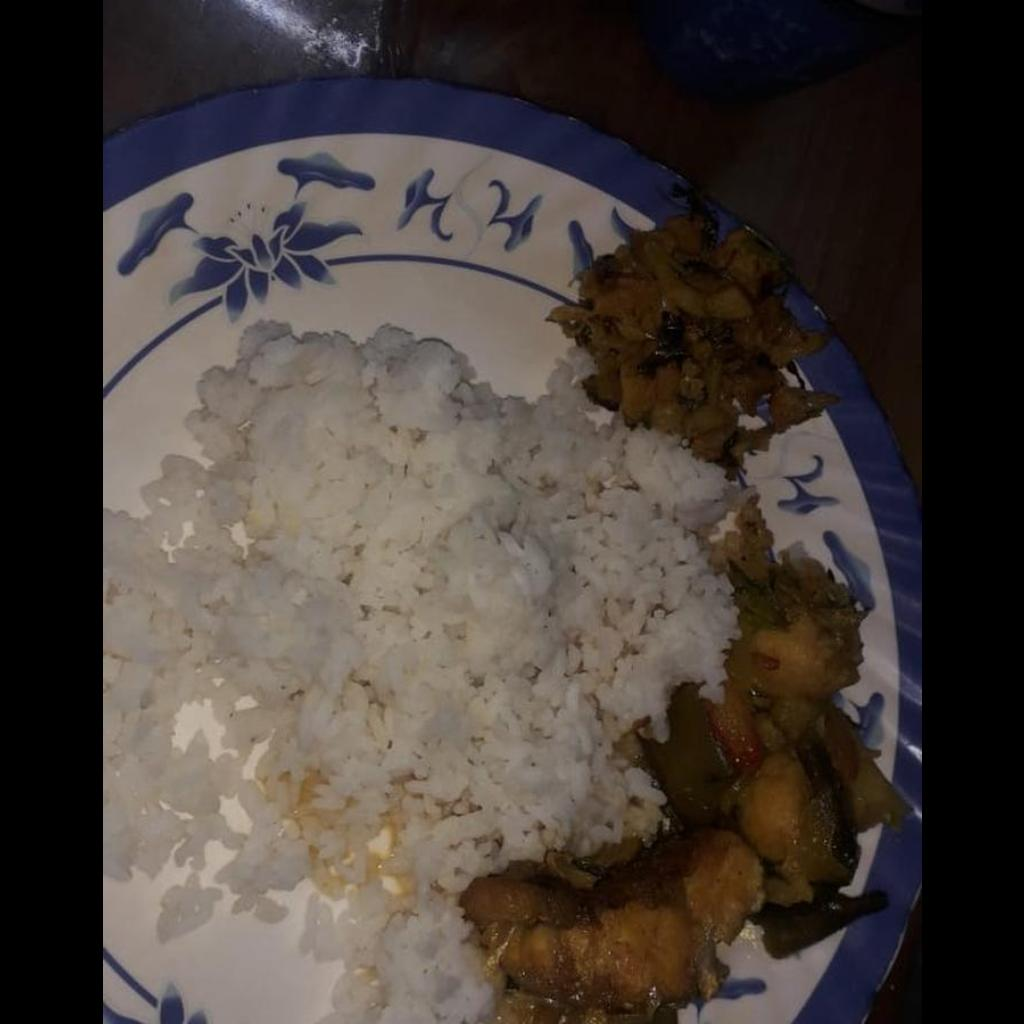fish: (464, 830, 768, 1013)
potato: (642, 585, 902, 907)
rice: (102, 318, 735, 1022)
vaji: (558, 217, 843, 460)
